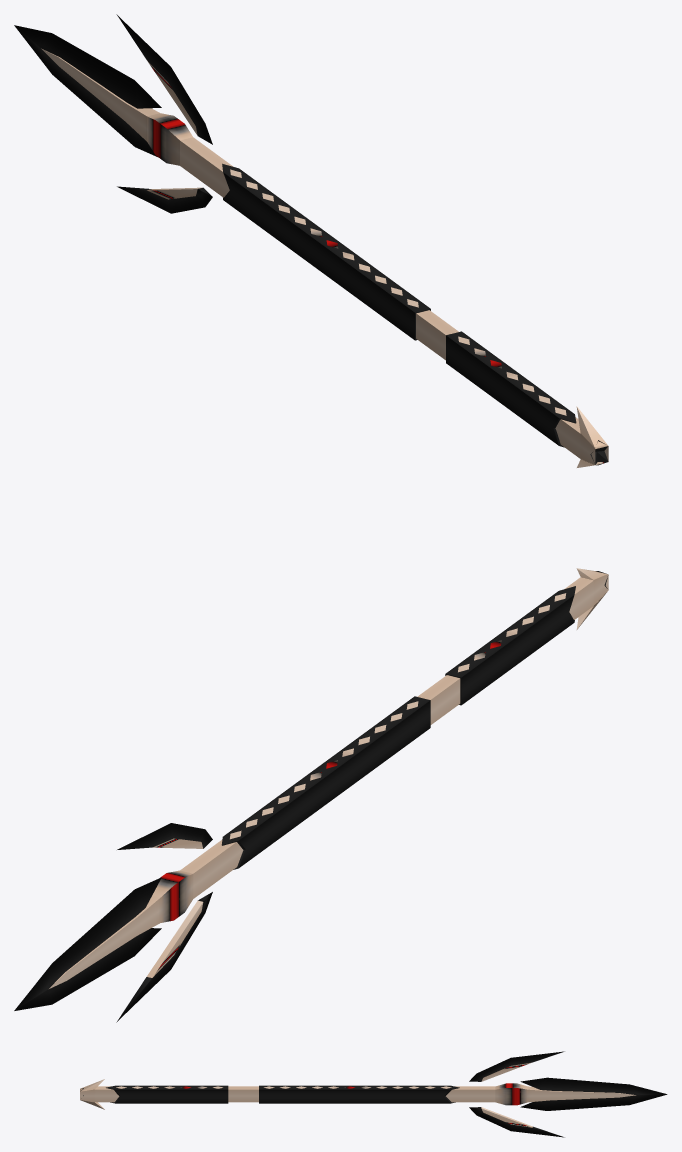
Rendered from theusfall.obj.
3 renders of one model, top to bottom at view 1: azimuth 30°, elevation 25°; view 2: azimuth 150°, elevation 25°; view 3: azimuth 270°, elevation 25°, orthographic. The views are drawn at different scales.
Parts seen in each view (by area): view 1: Cube_Cube.000; view 2: Cube_Cube.000; view 3: Cube_Cube.000.
Boxes of the visible parts, bbox=[...] form: Cube_Cube.000: bbox=[14, 14, 608, 467]; Cube_Cube.000: bbox=[14, 568, 608, 1022]; Cube_Cube.000: bbox=[80, 1051, 667, 1137].
Size of the model in its own units: 0.137 by 0.7945 by 5.46.
